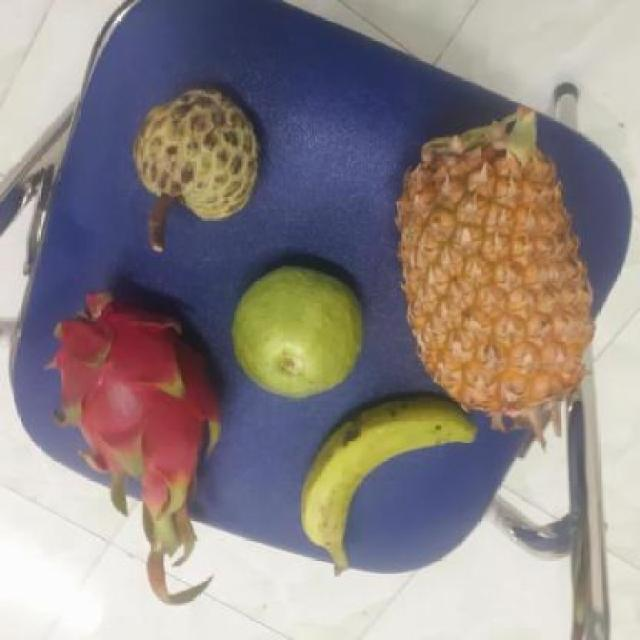banana: (303, 398, 492, 568)
dragon fruit: (56, 295, 230, 490)
guava: (234, 264, 372, 396)
pineapple: (394, 123, 608, 417)
sugar apple: (133, 88, 269, 224)
